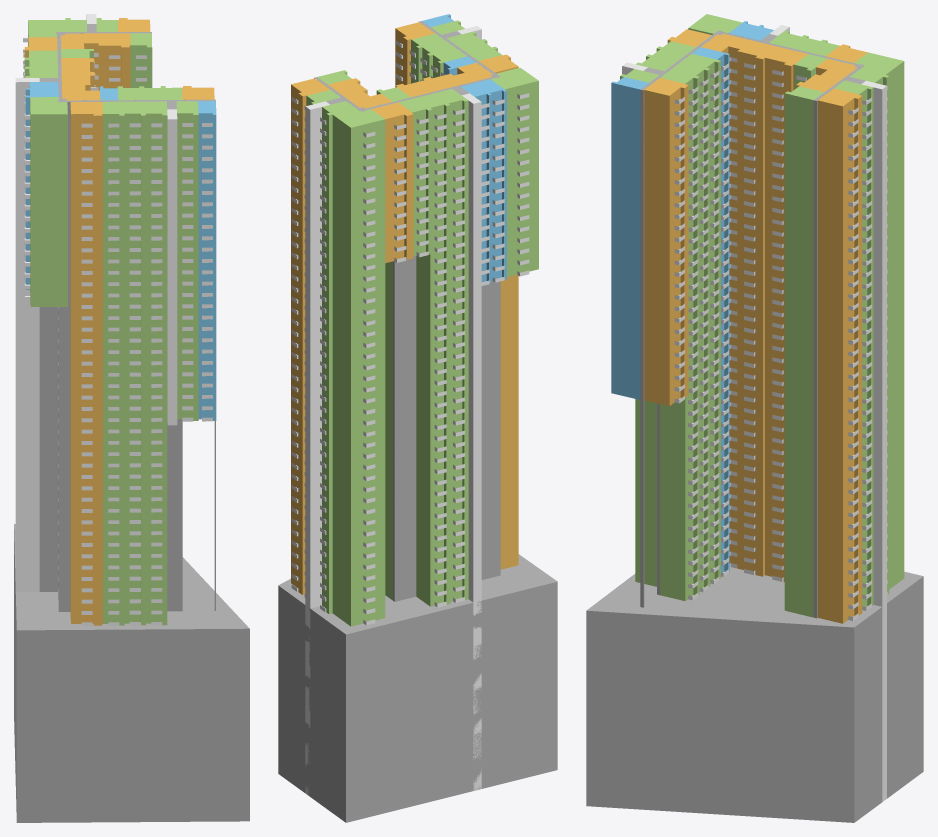
File: option1.gltf
The picture shows the model from 3 angles, left to right: view 1: azimuth 30°, elevation 25°; view 2: azimuth 150°, elevation 25°; view 3: azimuth 270°, elevation 25°; orthographic projection. The views are drawn at different scales.
Bounding box in the file's own units: 68.02 × 217 × 93.09.
